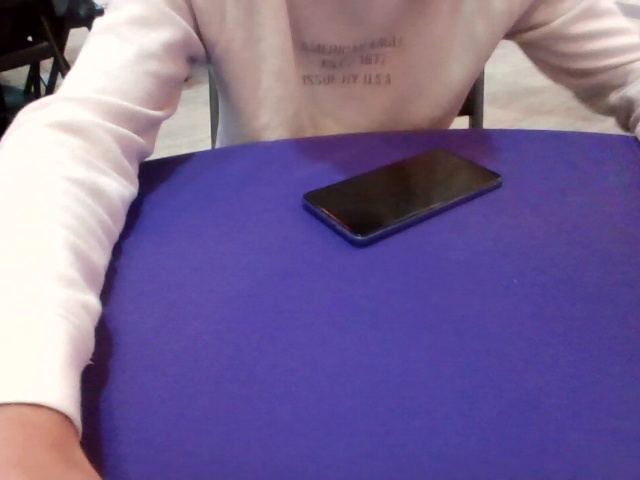celular: (299, 147, 505, 249)
